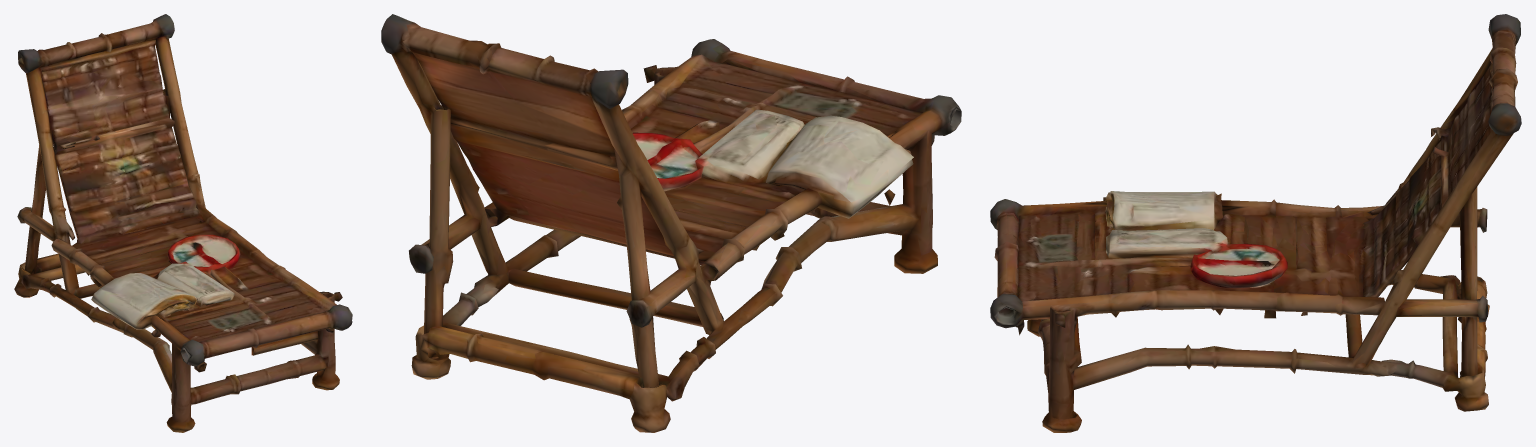
The model's file is zhuyi.glb.
The picture shows the model from 3 angles, left to right: view 1: azimuth 30°, elevation 25°; view 2: azimuth 150°, elevation 25°; view 3: azimuth 270°, elevation 25°; orthographic projection. The views are drawn at different scales.
Parts seen in each view (by area): view 1: tripo_node_c8db8f9d-89e8-4c50-819a-e6d5be336597; view 2: tripo_node_c8db8f9d-89e8-4c50-819a-e6d5be336597; view 3: tripo_node_c8db8f9d-89e8-4c50-819a-e6d5be336597.
Boxes of the visible parts, bbox=[...] form: tripo_node_c8db8f9d-89e8-4c50-819a-e6d5be336597: bbox=[14, 14, 352, 432]; tripo_node_c8db8f9d-89e8-4c50-819a-e6d5be336597: bbox=[381, 14, 961, 432]; tripo_node_c8db8f9d-89e8-4c50-819a-e6d5be336597: bbox=[990, 14, 1521, 432].
Bounding box in the file's own units: 0.8221 × 0.9999 × 1.48.
Materials: 1 (1 with a texture image).
